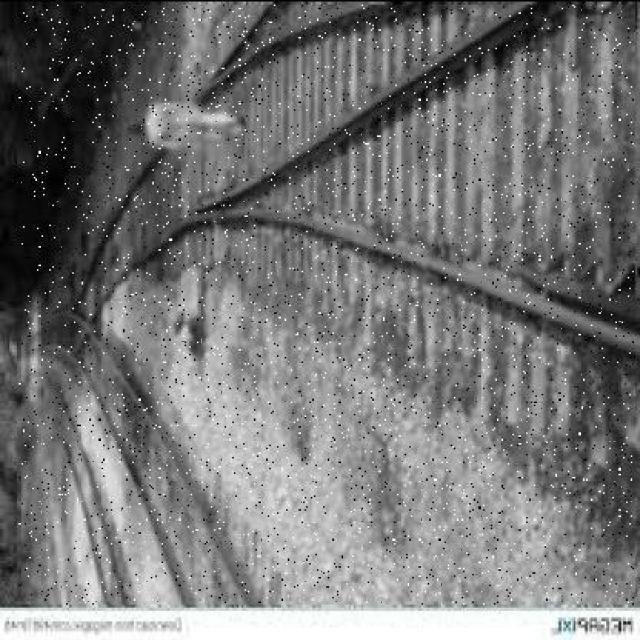rail: (19, 4, 635, 604)
